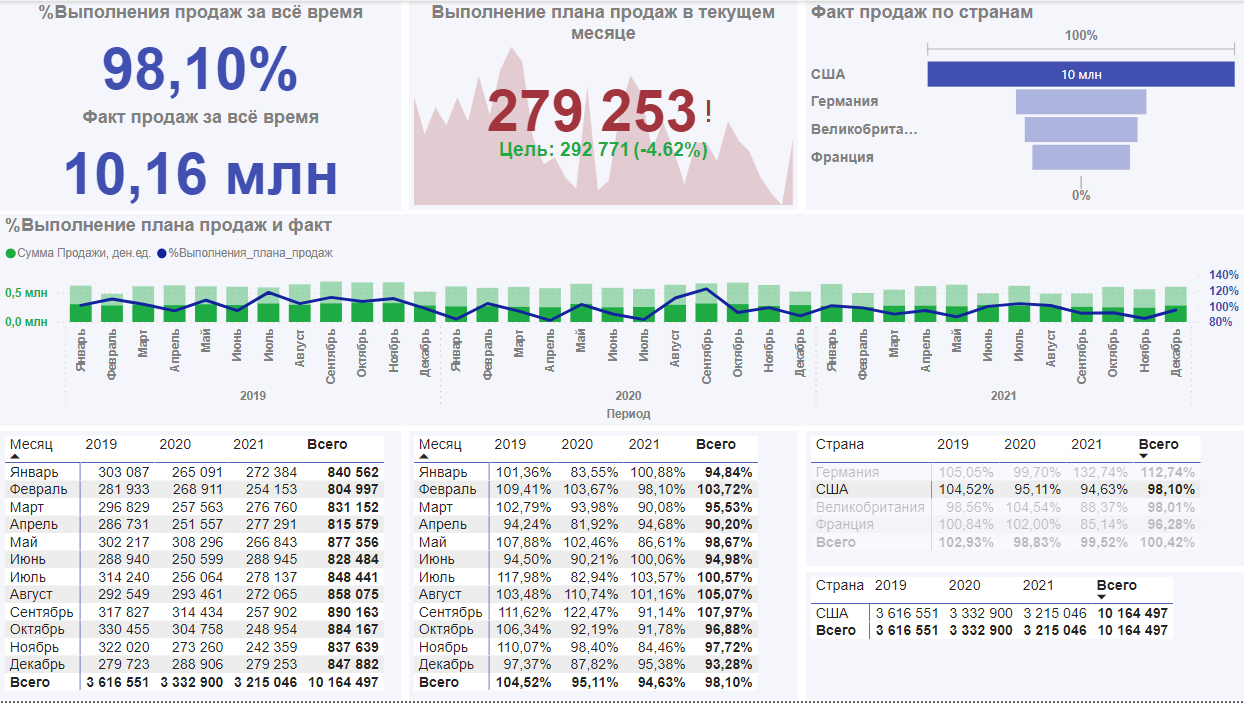

The dashboard page shown, as its layout file describes it:
{"tool":"powerbi","page":{"name":"Выполнение плана продаж","canvas":[1280,720],"ordinal":0},"visuals":[{"type":"pivotTable","fields":{"Values":["Факт.%Выполнения_плана_продаж"],"Columns":["Календарь.Дата ДЕНЬ.Изменение.Иерархия дат.Год"],"Rows":["Календарь.Дата ДЕНЬ.Изменение.Иерархия дат.Месяц"]},"box":[421.1,442.5,399.7,277.2],"z":0},{"type":"funnel","title":"Факт продаж по странам","fields":{"Category":["Факт.Страна"],"Y":["Sum(Факт.Продажи, ден.ед.)"]},"box":[829.1,0,450.9,215.3],"z":1000},{"type":"kpi","title":"Выполнение плана продаж в текущем месяце","fields":{"Indicator":["Sum(Факт.Продажи, ден.ед.)"],"TrendLine":["Календарь.Дата ДЕНЬ"],"Goal":["Sum(План.План продаж ден.ед.)"]},"box":[421.1,0,399.7,215.3],"z":1001},{"type":"pivotTable","fields":{"Columns":["Календарь.Дата ДЕНЬ.Изменение.Иерархия дат.Год"],"Values":["Sum(Факт.Продажи, ден.ед.)"],"Rows":["Календарь.Дата ДЕНЬ.Изменение.Иерархия дат.Месяц"]},"box":[0,442.5,412.8,277.2],"z":1002},{"type":"card","title":"%Выполнения продаж за всё время","fields":{"Values":["Факт.%Выполнения_плана_продаж"]},"box":[0,0,412.8,108.3],"z":1003},{"type":"pivotTable","fields":{"Values":["Факт.%Выполнения_плана_продаж"],"Columns":["Календарь.Дата ДЕНЬ.Изменение.Иерархия дат.Год"],"Rows":["План.Страна"]},"box":[829.1,442.5,450.9,139.2],"z":1004},{"type":"card","title":"Факт продаж за всё время","fields":{"Values":["Sum(Факт.Продажи, ден.ед.)"]},"box":[0,108.3,412.8,108.3],"z":1005},{"type":"pivotTable","fields":{"Columns":["Календарь.Дата ДЕНЬ.Изменение.Иерархия дат.Год"],"Rows":["План.Страна"],"Values":["Sum(Факт.Продажи, ден.ед.)"]},"box":[829.1,587.6,450.9,132],"z":1006},{"type":"lineStackedColumnComboChart","title":"%Выполнение плана продаж и факт","fields":{"Y":["Sum(Факт.Продажи, ден.ед.)"],"Y2":["Факт.%Выполнения_плана_продаж"],"Category":["Календарь.Дата ДЕНЬ.Изменение.Иерархия дат.Год","Календарь.Дата ДЕНЬ.Изменение.Иерархия дат.Месяц"]},"box":[0,219.2,1280,218.1],"z":1007}]}

Visuals, with their boxes in screenshot pixels (x1, y1, x2, y2), scaled from the page's 1280x720 canvas onto the 1244x703 screenshot:
pivotTable - Факт.%Выполнения_плана_продаж x Календарь.Дата ДЕНЬ.Изменение.Иерархия дат.Год: {"x1": 409, "y1": 432, "x2": 798, "y2": 702}
"Факт продаж по странам" funnel: {"x1": 806, "y1": 0, "x2": 1243, "y2": 210}
"Выполнение плана продаж в текущем месяце" kpi: {"x1": 409, "y1": 0, "x2": 798, "y2": 210}
pivotTable - Календарь.Дата ДЕНЬ.Изменение.Иерархия дат.Год x Sum(Факт.Продажи, ден.ед.): {"x1": 0, "y1": 432, "x2": 401, "y2": 702}
"%Выполнения продаж за всё время" card: {"x1": 0, "y1": 0, "x2": 401, "y2": 106}
pivotTable - Факт.%Выполнения_плана_продаж x Календарь.Дата ДЕНЬ.Изменение.Иерархия дат.Год: {"x1": 806, "y1": 432, "x2": 1243, "y2": 568}
"Факт продаж за всё время" card: {"x1": 0, "y1": 106, "x2": 401, "y2": 211}
pivotTable - Календарь.Дата ДЕНЬ.Изменение.Иерархия дат.Год x План.Страна: {"x1": 806, "y1": 574, "x2": 1243, "y2": 702}
"%Выполнение плана продаж и факт" lineStackedColumnComboChart: {"x1": 0, "y1": 214, "x2": 1243, "y2": 427}
